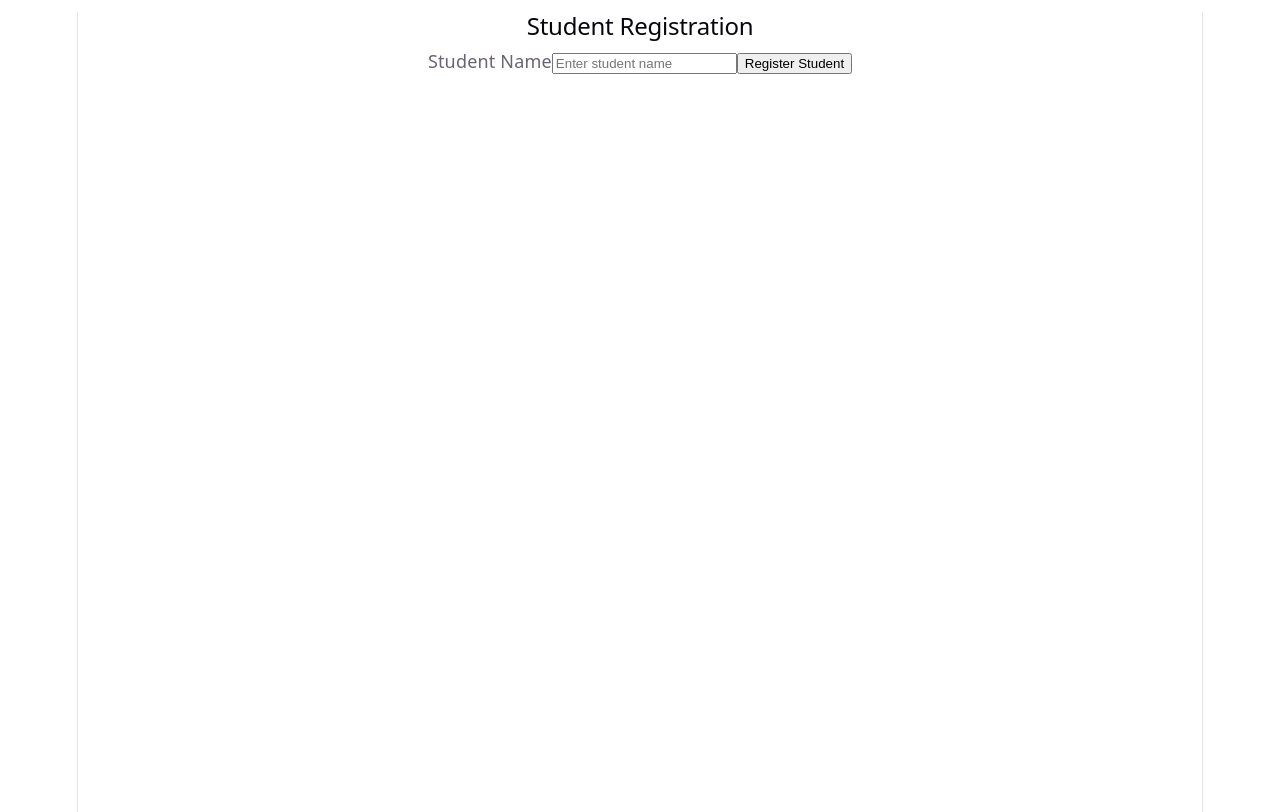
Student Registration Testing › should display validation message for empty name
Click the button "Register Student" at (794, 64), box 737,53 -> 852,74
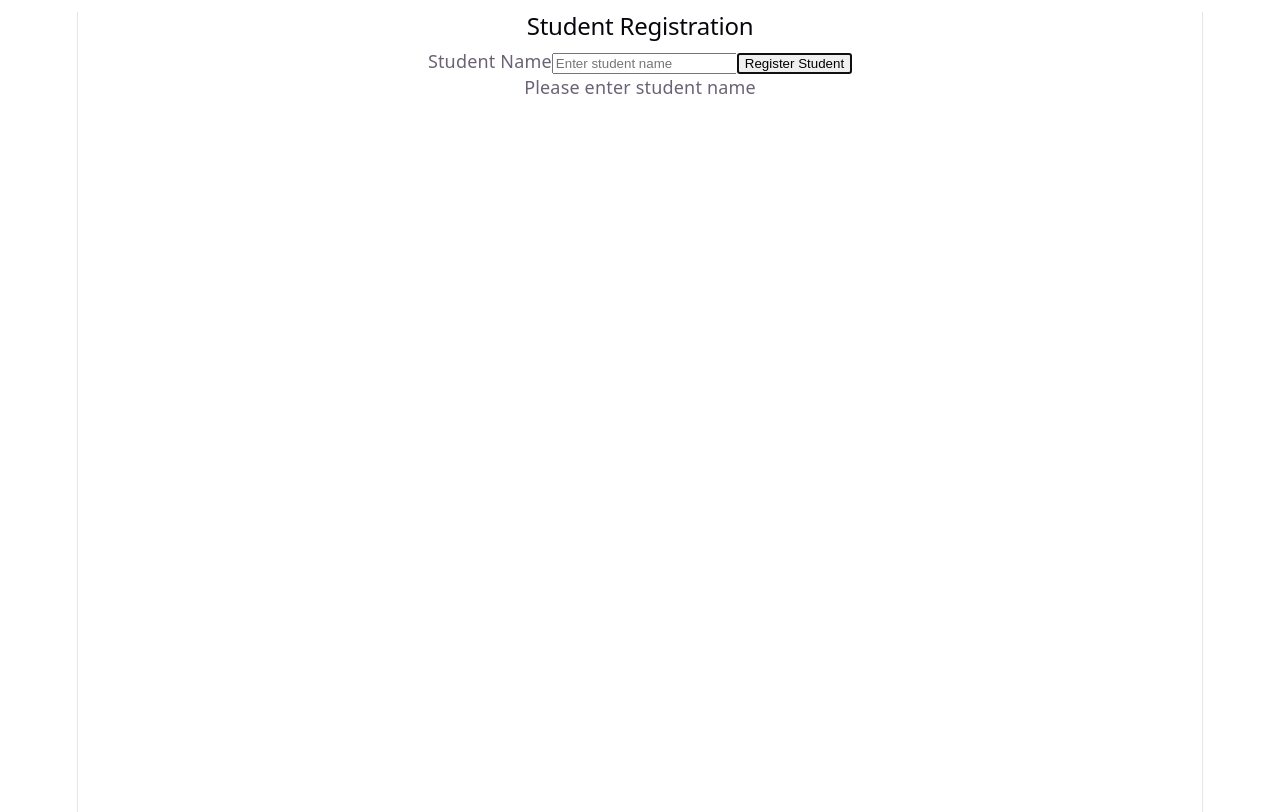
Expected: the text "Please enter student name" is shown, 524,75 -> 756,99
